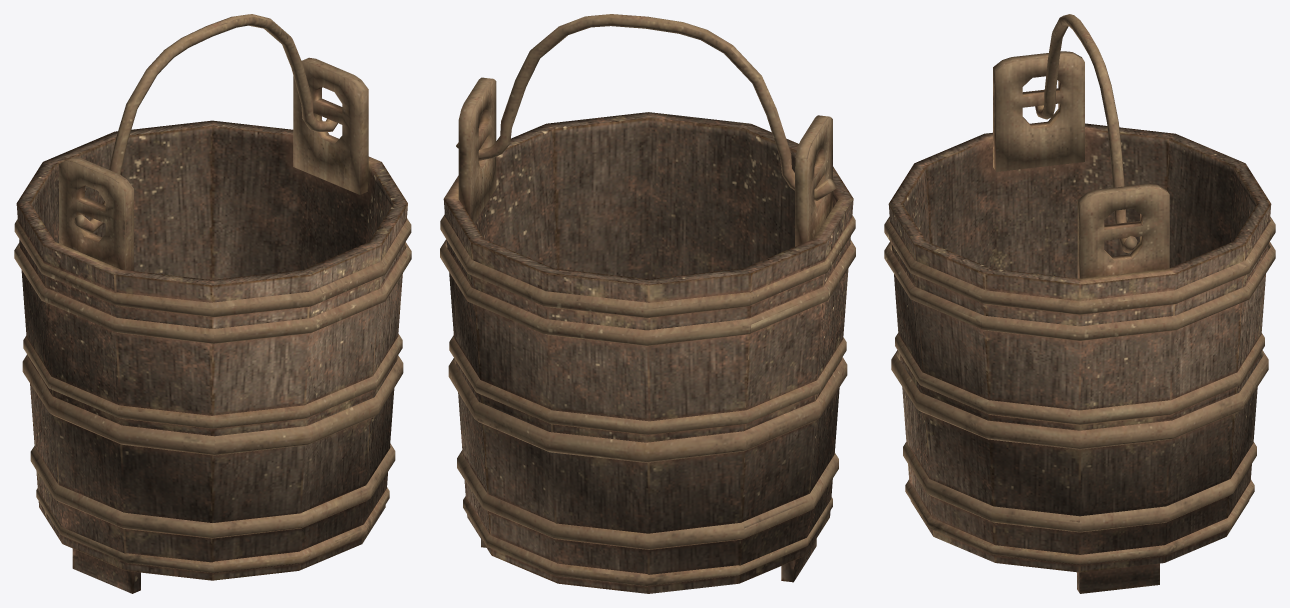
File: WoodBucket.fbx
The picture shows the model from 3 angles, left to right: view 1: azimuth 30°, elevation 25°; view 2: azimuth 150°, elevation 25°; view 3: azimuth 270°, elevation 25°; orthographic projection. The views are drawn at different scales.
Parts seen in each view (by area): view 1: WoodBucket; view 2: WoodBucket; view 3: WoodBucket.
Boxes of the visible parts, <box> form: WoodBucket: <box>14,14,411,593</box>; WoodBucket: <box>440,14,855,593</box>; WoodBucket: <box>884,14,1275,593</box>.
Size of the model in its own units: 0.3506 by 0.4957 by 0.3544.
